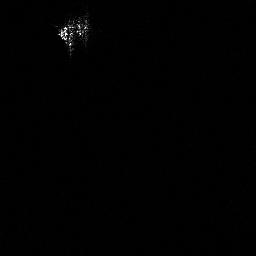ship: (58, 18, 90, 45)
